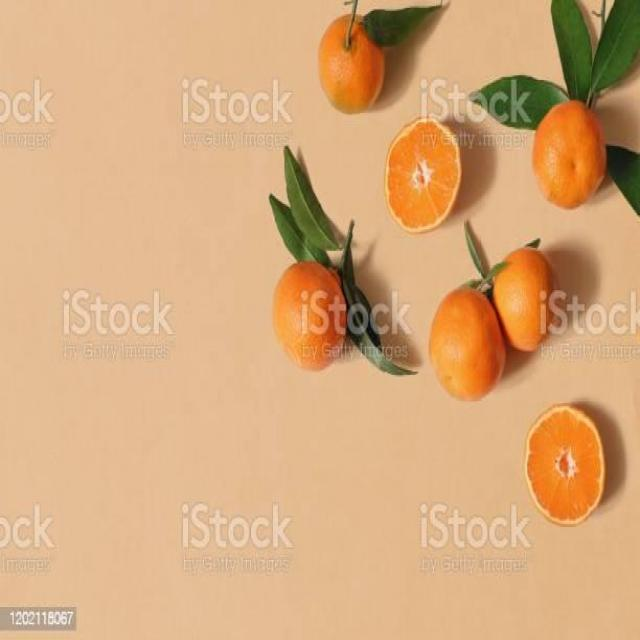10_tangerine: (524, 396, 616, 529), (425, 283, 509, 402), (385, 116, 466, 239), (271, 256, 352, 372), (535, 96, 605, 212), (318, 11, 386, 116)
